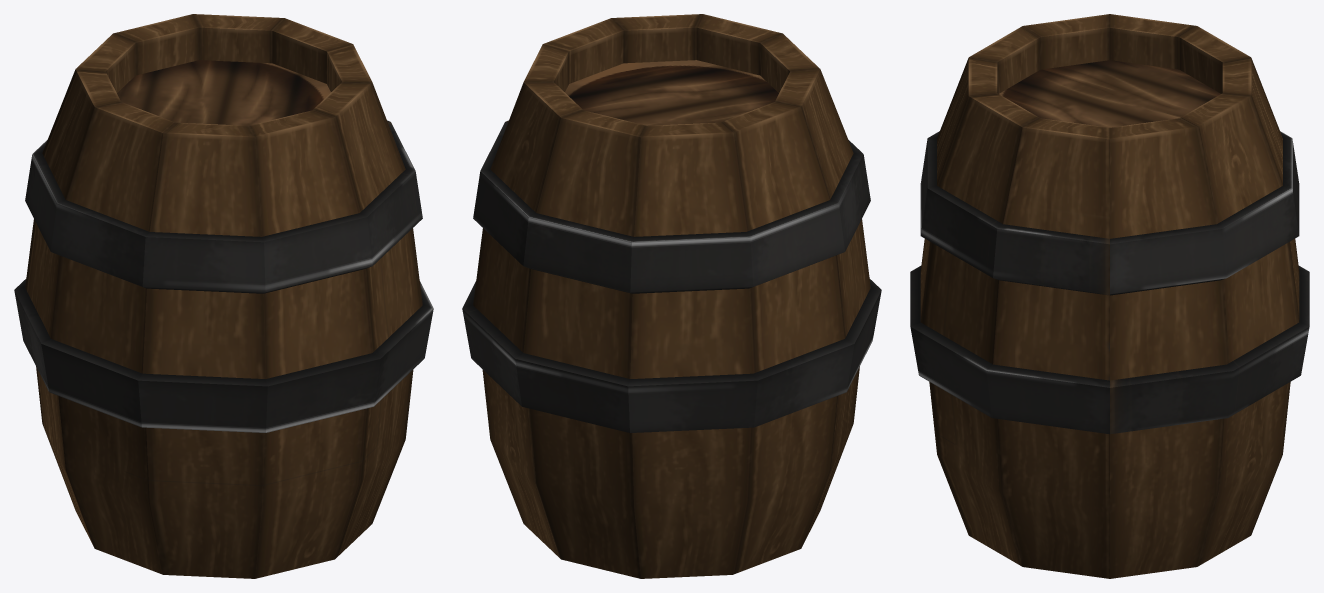
File: SM_barrel.fbx
3 views of the same model, side by side, from view 1: azimuth 30°, elevation 25°; view 2: azimuth 150°, elevation 25°; view 3: azimuth 270°, elevation 25° (orthographic).
Visible parts, largest first — view 1: SM_barrel; view 2: SM_barrel; view 3: SM_barrel.
Part boxes in pixels (x1,y1,x2,y2): SM_barrel: (14, 14, 433, 578); SM_barrel: (462, 14, 881, 578); SM_barrel: (910, 14, 1309, 578).
Bounding box in the file's own units: 2.01 × 2.32 × 1.91.
